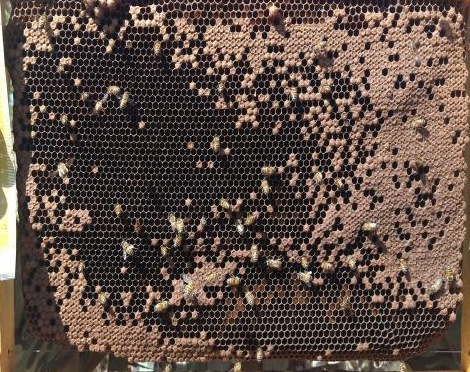cria: (8, 0, 466, 362)
